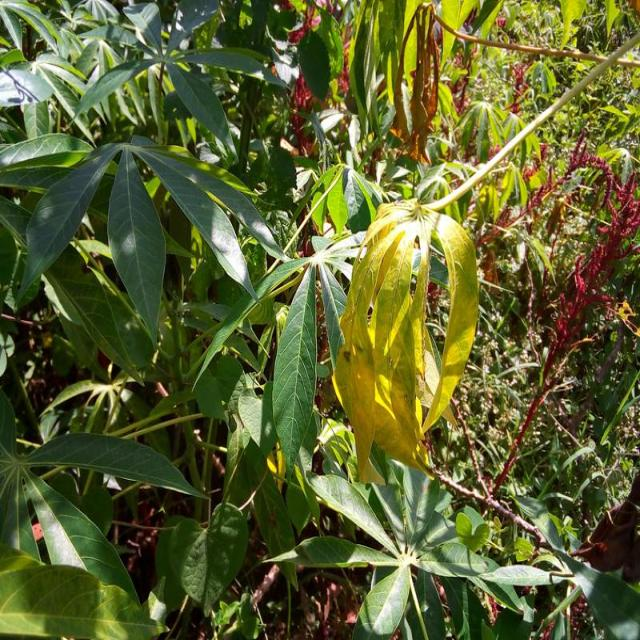cassava leaf: (15, 136, 286, 347), (330, 198, 480, 484), (270, 259, 318, 474)
